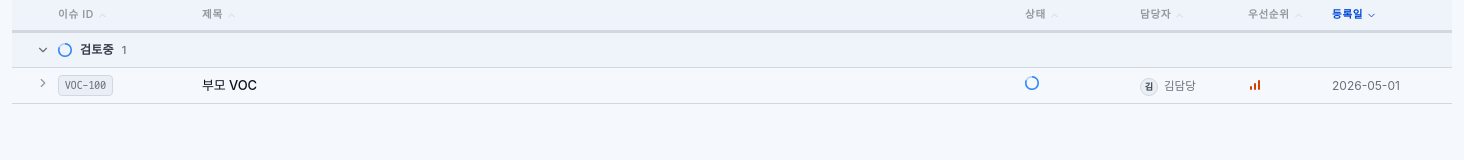
Test case: VocTable §9.2.2 inline subtask expand › groupByStatus 활성: 자식은 부모 status 그룹 안에 인라인
Click the button with test id "voc-row-expand-toggle" at coordinates (43, 83), box [36,76,50,90]
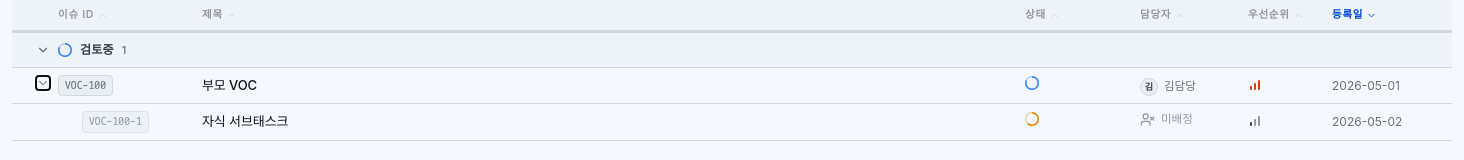
Now the text "자식 서브태스크" is shown, box [202,113,288,129]
